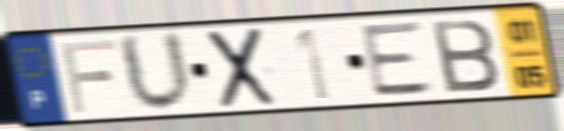1: (293, 27, 332, 101)
B: (427, 16, 503, 96)
E: (358, 18, 439, 100)
F: (57, 37, 120, 115)
U: (114, 28, 197, 116)
X: (204, 24, 279, 112)
